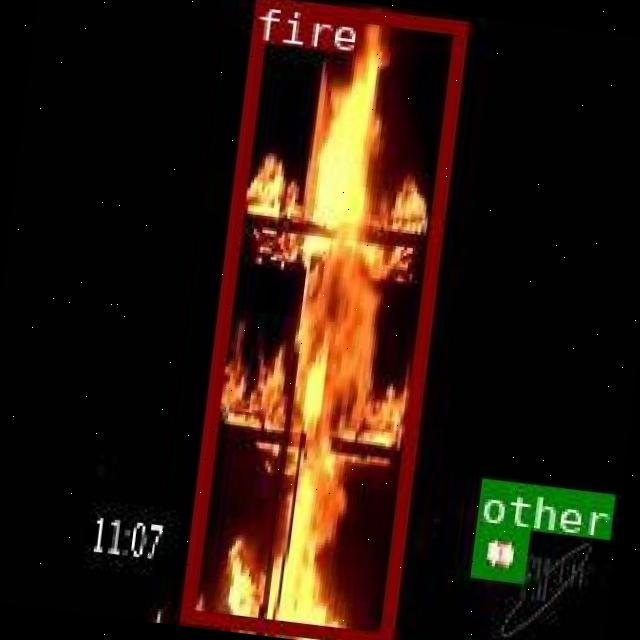fire: (178, 0, 464, 640)
